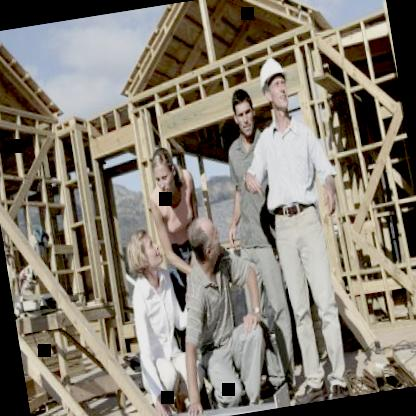helmet: (255, 54, 298, 116)
